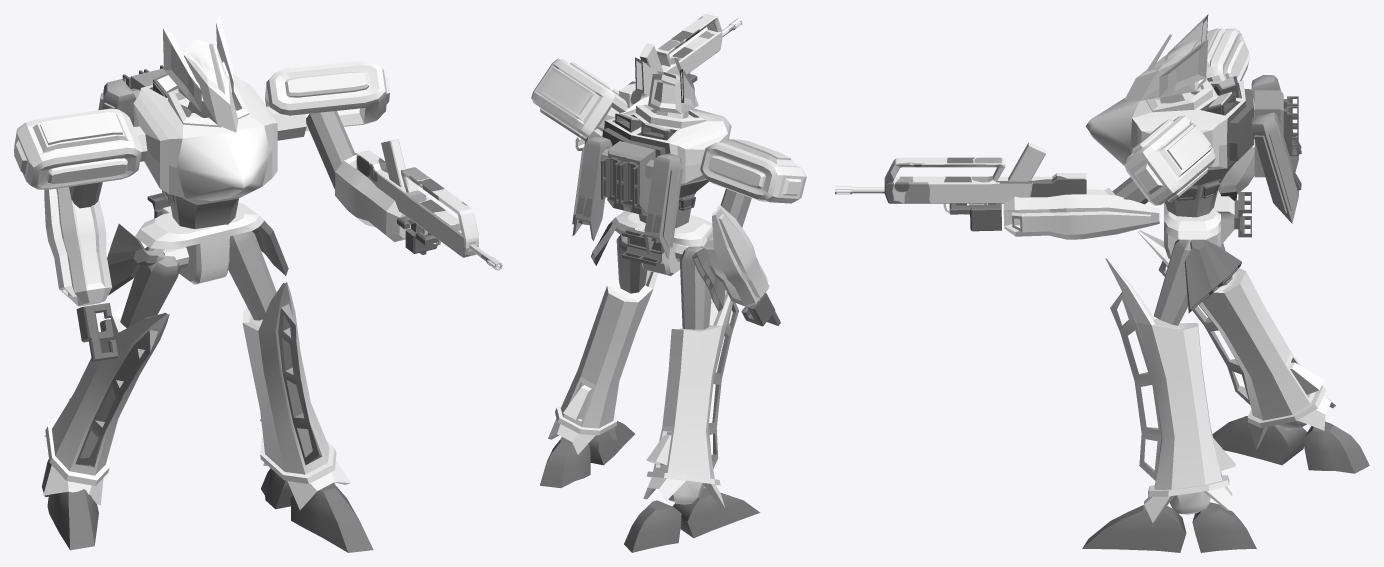
Rendered from herorifle.fbx.
The picture shows the model from 3 angles, left to right: view 1: azimuth 30°, elevation 25°; view 2: azimuth 150°, elevation 25°; view 3: azimuth 270°, elevation 25°; orthographic projection. The views are drawn at different scales.
Parts seen in each view (by area): view 1: pCube38; view 2: pCube38; view 3: pCube38.
Boxes of the visible parts, x1,y1,x2,y2 form: pCube38: (14, 14, 502, 552); pCube38: (531, 14, 806, 552); pCube38: (835, 14, 1369, 552).
Size of the model in its own units: 52.78 by 75.71 by 78.05.
1 material, 1 textured.
